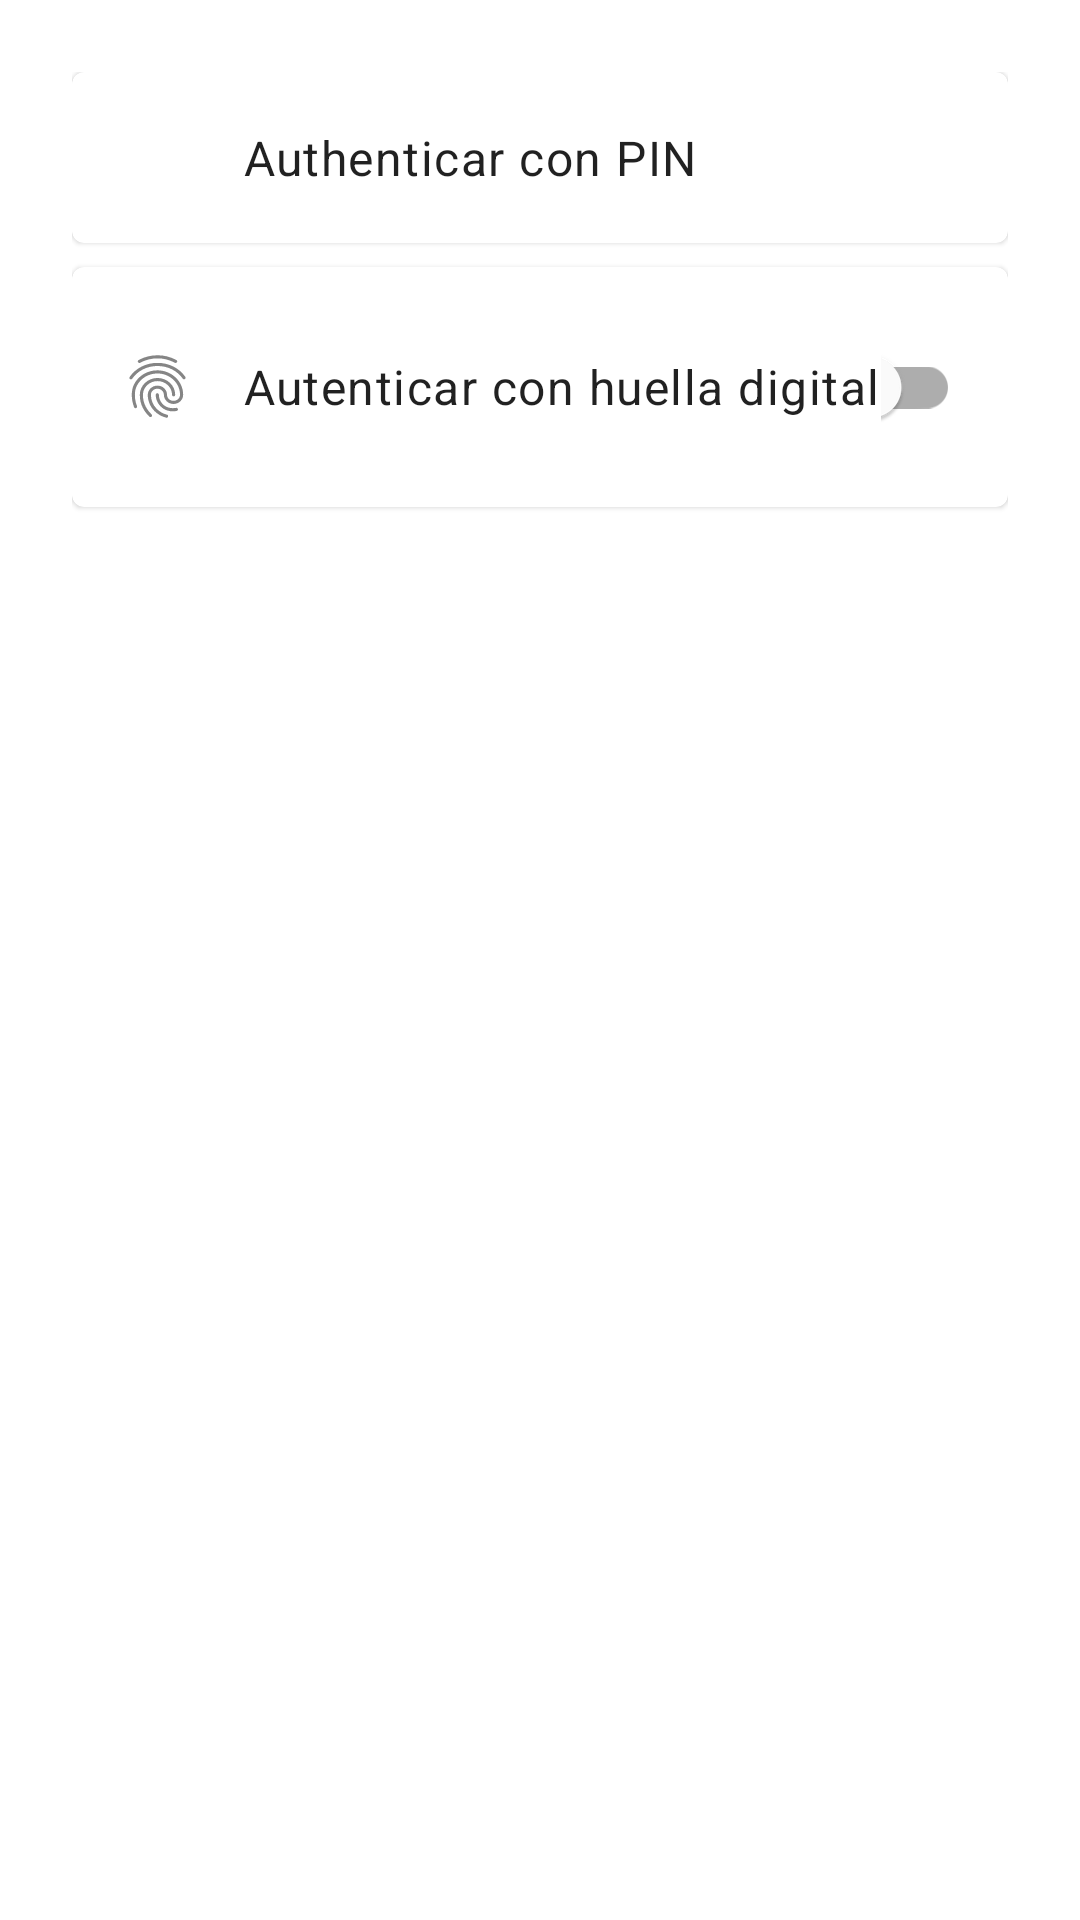

Icons on this 1080px×1920px Android screen, each with its box as (x1, y1, x2, y2):
fingerprint: (129, 355, 186, 418)
